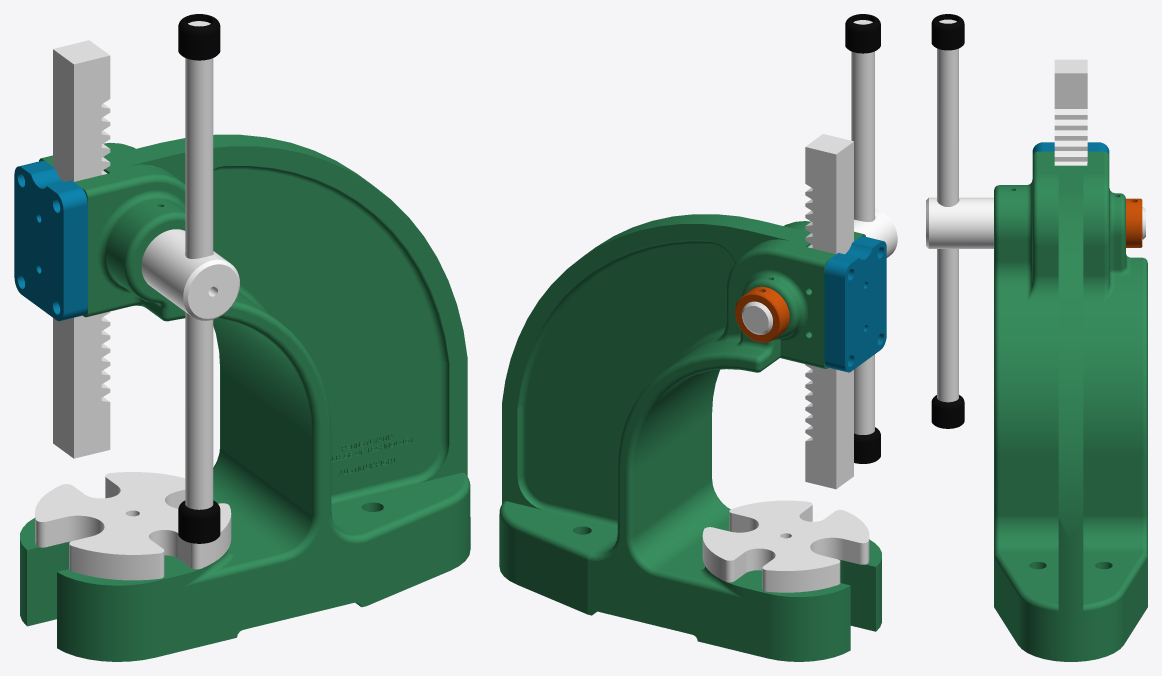
3 views of the same model, side by side, from view 1: azimuth 30°, elevation 25°; view 2: azimuth 150°, elevation 25°; view 3: azimuth 270°, elevation 25° (orthographic). The views are drawn at different scales.
Parts seen in each view (by area): view 1: Solid2 (×8); view 2: Solid2 (×9); view 3: Solid2 (×8).
Part boxes in pixels (bbox=[...]): Solid2 (×8): bbox=[14, 14, 470, 661]; Solid2 (×9): bbox=[499, 14, 897, 661]; Solid2 (×8): bbox=[926, 14, 1147, 661].
Bounding box in the file's own units: 0.2206 × 0.327 × 0.1282.
